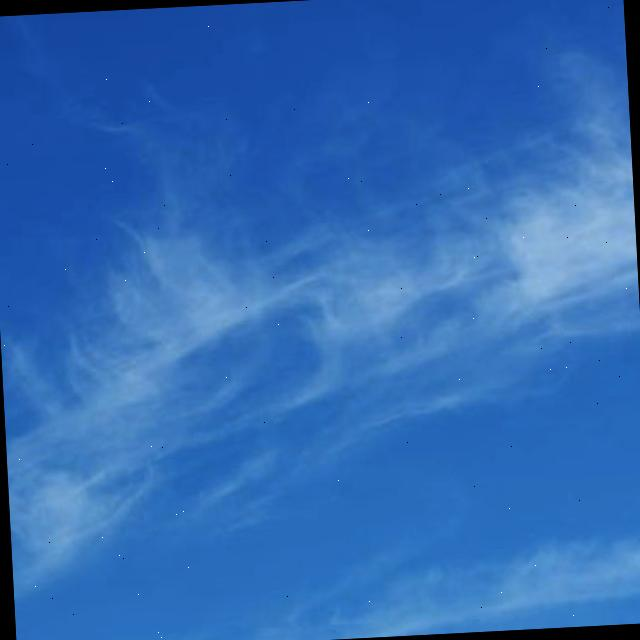Ci: (1, 1, 640, 563)
